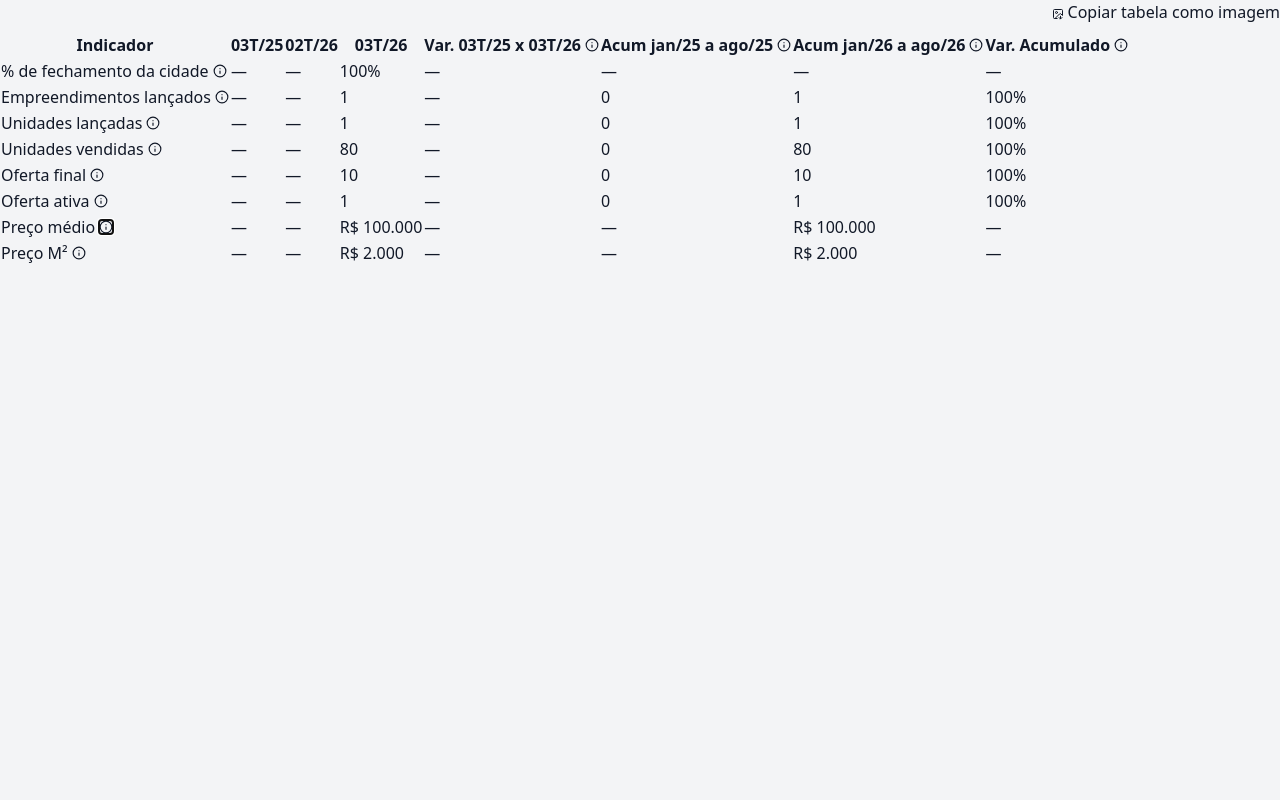
Scenario: variação anual do Resumo email › a ajuda de Preço médio descreve a regra vigente
The image size is (1280, 800).
Click the button named "Regra de cálculo — Preço médio". click: (106,227)
box: [99,220,113,234]
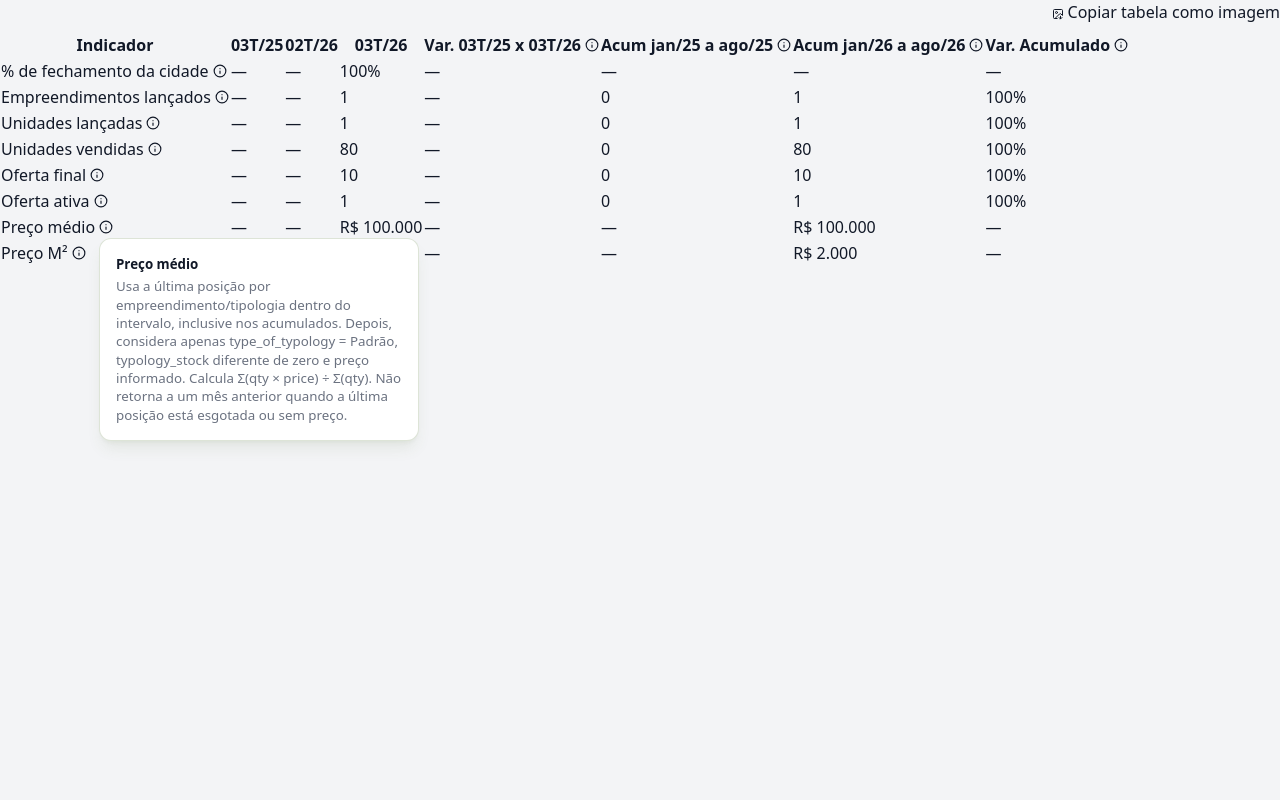
Expected: the dialog shows "Usa a última posição por empreendimento/tipologia", [116,277,401,424]
Press Escape in the dialog, box [99,238,419,441]
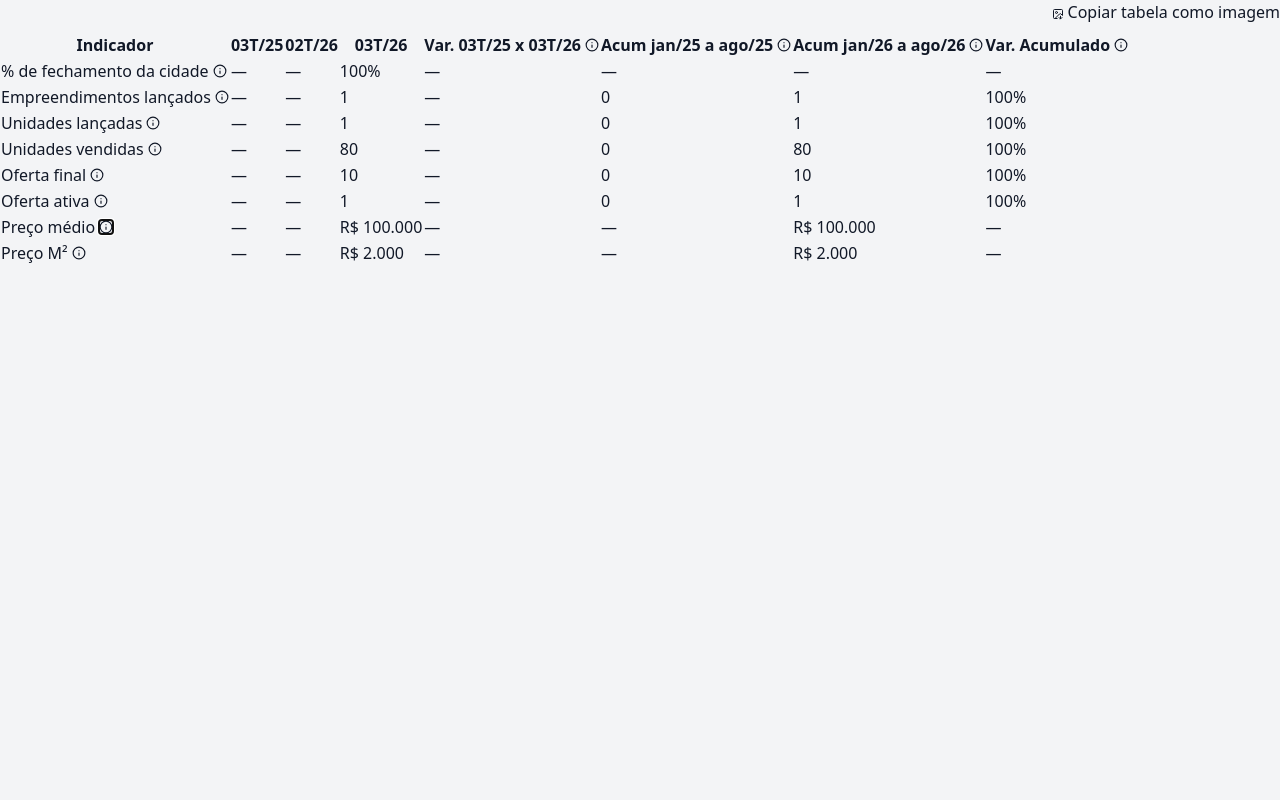
Expected: the dialog is gone
